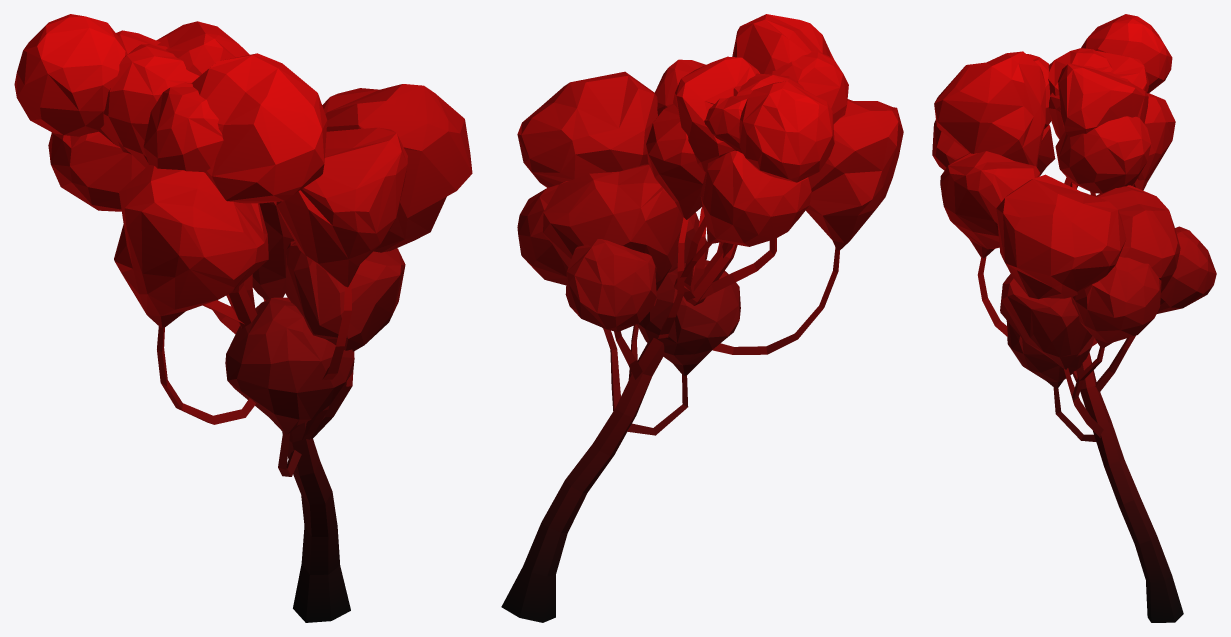
File: TreeEuca07.fbx
3 renders of one model, left to right at view 1: azimuth 30°, elevation 25°; view 2: azimuth 150°, elevation 25°; view 3: azimuth 270°, elevation 25°, orthographic. The views are drawn at different scales.
Visible parts, largest first — view 1: TreeEuca07_LOD0; view 2: TreeEuca07_LOD0; view 3: TreeEuca07_LOD0.
Part boxes in pixels (bbox=[...]): TreeEuca07_LOD0: bbox=[14, 14, 472, 622]; TreeEuca07_LOD0: bbox=[501, 14, 903, 622]; TreeEuca07_LOD0: bbox=[932, 14, 1216, 622].
Size of what is drawn, in the model's own units: 336 by 541 by 279.
